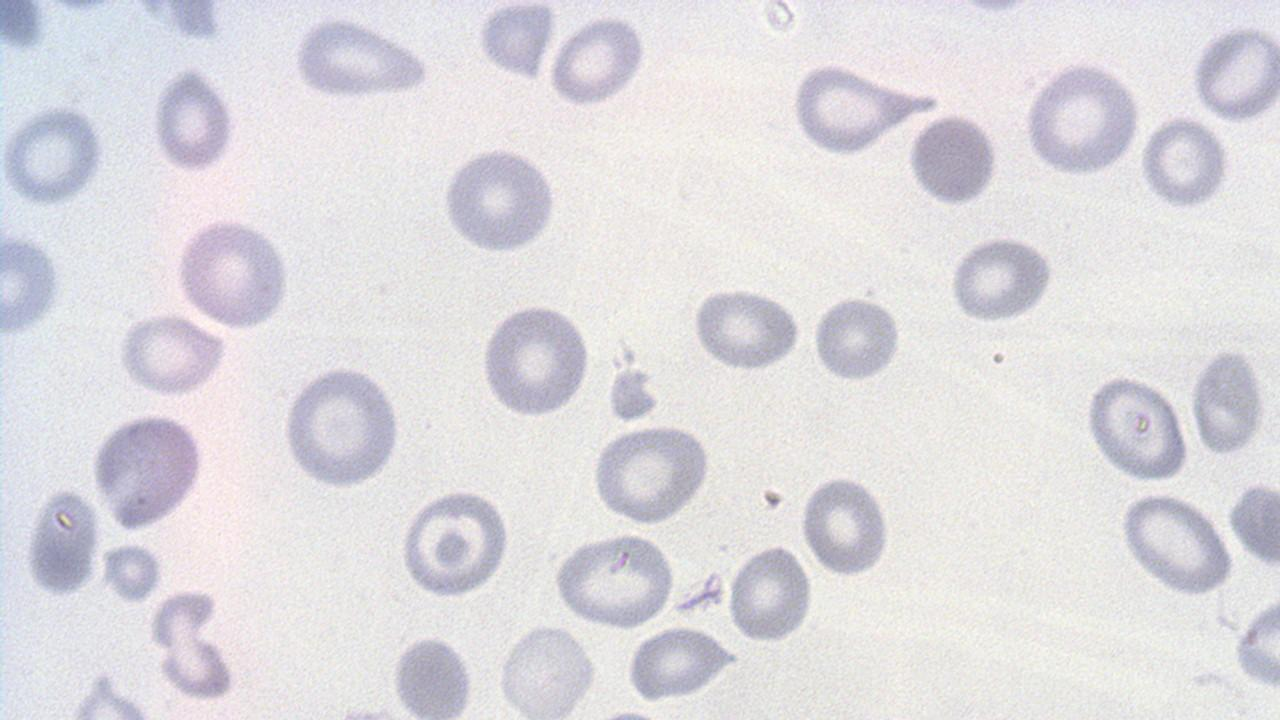Platelets: (287, 19, 437, 101), (688, 283, 804, 372), (546, 13, 654, 108), (151, 63, 240, 178), (903, 110, 1001, 208), (1187, 345, 1271, 457), (809, 292, 906, 384), (0, 230, 68, 338), (473, 4, 558, 82), (1224, 587, 1278, 694), (606, 359, 661, 425), (1, 2, 48, 53), (670, 575, 726, 617), (333, 696, 400, 718), (960, 0, 1032, 18)
RBC: (278, 360, 406, 493), (1021, 57, 1143, 178), (437, 142, 563, 258), (172, 213, 294, 330), (476, 298, 592, 419), (397, 483, 516, 600), (550, 528, 678, 630), (1116, 489, 1238, 596), (286, 14, 434, 102), (589, 422, 713, 526), (787, 61, 919, 157), (1081, 369, 1191, 484), (0, 101, 110, 208), (149, 61, 242, 177), (798, 470, 894, 580), (496, 619, 602, 718), (946, 233, 1058, 325), (113, 310, 231, 397), (688, 285, 804, 373), (544, 12, 650, 107), (22, 480, 105, 600), (905, 109, 1000, 209), (1189, 19, 1277, 126), (724, 542, 816, 644), (1138, 113, 1232, 212), (1189, 345, 1269, 458), (810, 289, 904, 385), (624, 624, 735, 702), (385, 630, 477, 718), (2, 228, 68, 337), (475, 0, 557, 82), (1227, 475, 1279, 575), (1229, 589, 1279, 693)
WBC: (0, 0, 454, 717), (722, 0, 1270, 440), (279, 358, 406, 494), (87, 408, 210, 532), (480, 298, 596, 424), (396, 482, 514, 602), (289, 14, 440, 104), (591, 421, 714, 525), (493, 618, 601, 718), (1, 226, 69, 339), (472, 1, 562, 82)
